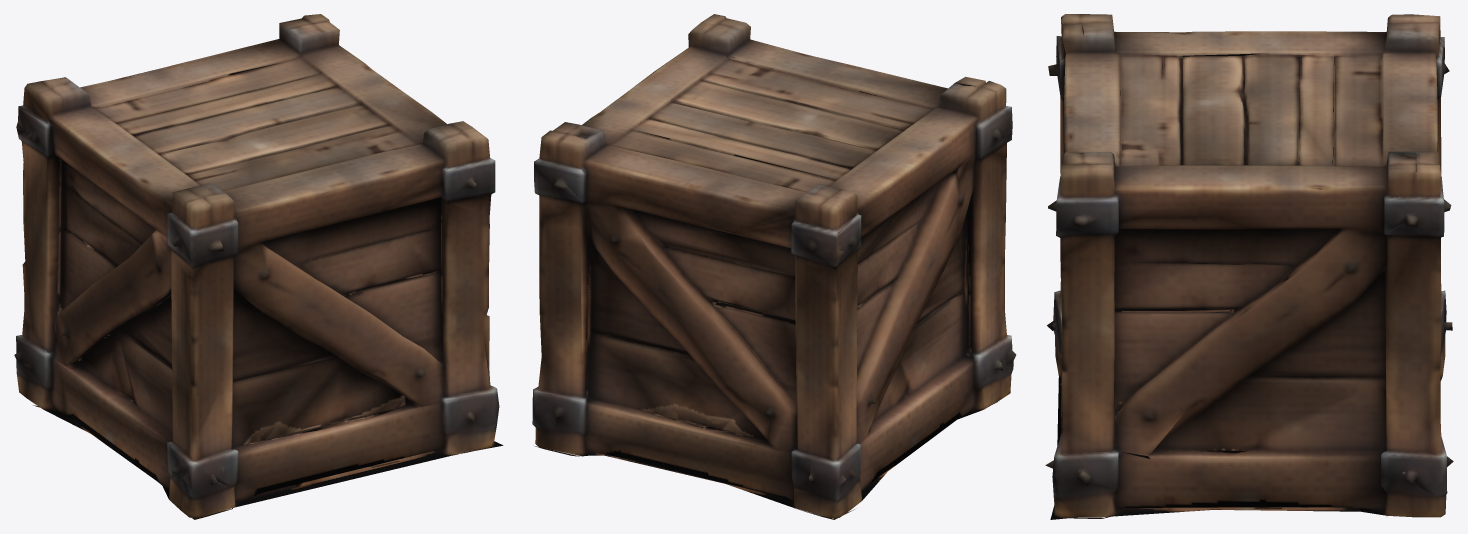
The model's file is crate.glb.
The picture shows the model from 3 angles, left to right: view 1: azimuth 30°, elevation 25°; view 2: azimuth 150°, elevation 25°; view 3: azimuth 270°, elevation 25°; orthographic projection. The views are drawn at different scales.
Visible parts, largest first — view 1: MV_crate; view 2: MV_crate; view 3: MV_crate.
Part boxes in pixels (left/top/right/bottom): MV_crate: left=14, top=14, right=503, bottom=519; MV_crate: left=532, top=14, right=1016, bottom=519; MV_crate: left=1045, top=14, right=1453, bottom=519.
Size of the model in its own units: 0.903 by 0.85 by 0.9051.
1 material, 1 textured.
